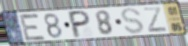8: (44, 13, 64, 40), (95, 10, 115, 37)
E: (18, 13, 48, 42)
P: (69, 10, 92, 40)
S: (120, 7, 145, 36)
Z: (142, 6, 170, 34)
